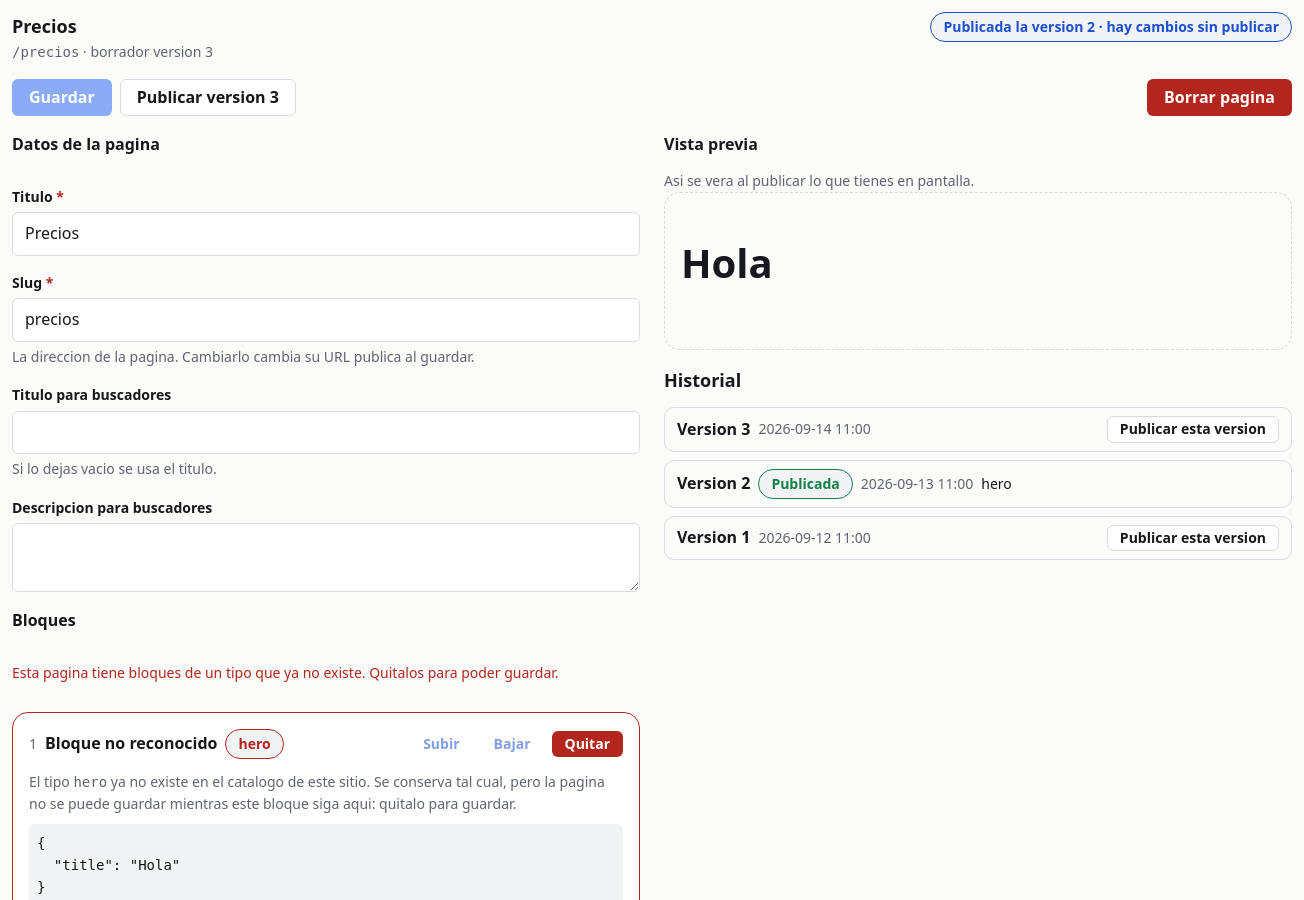
Test: EditorDePagina: guardar › un 409 con la version intacta es el slug de otra pagina, no un conflicto de version
Replace the text in the field labelled "Slug *" with "inicio": (326, 320) [12, 298, 640, 342]
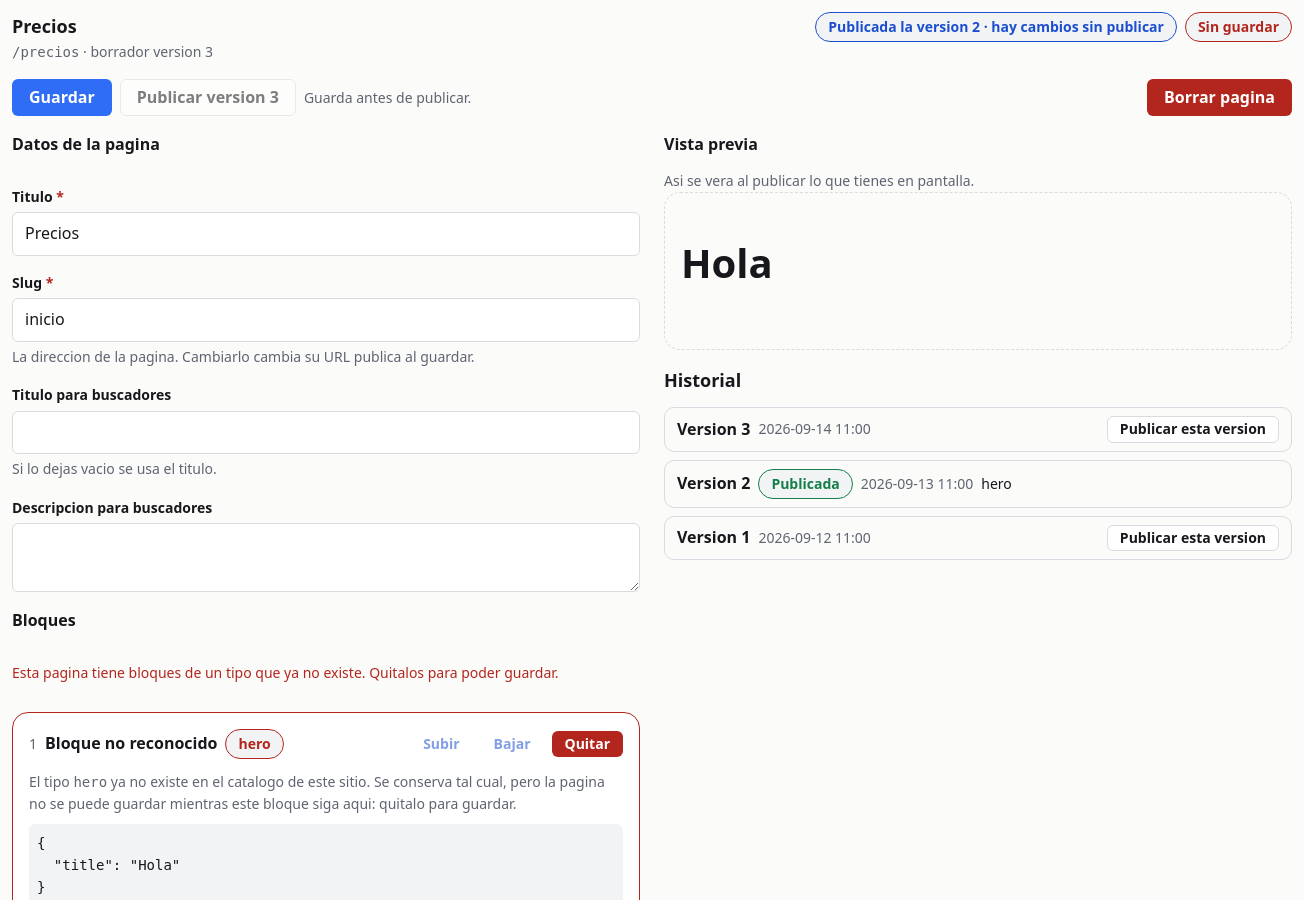
Click the button "Guardar": (62, 98) [12, 79, 112, 116]
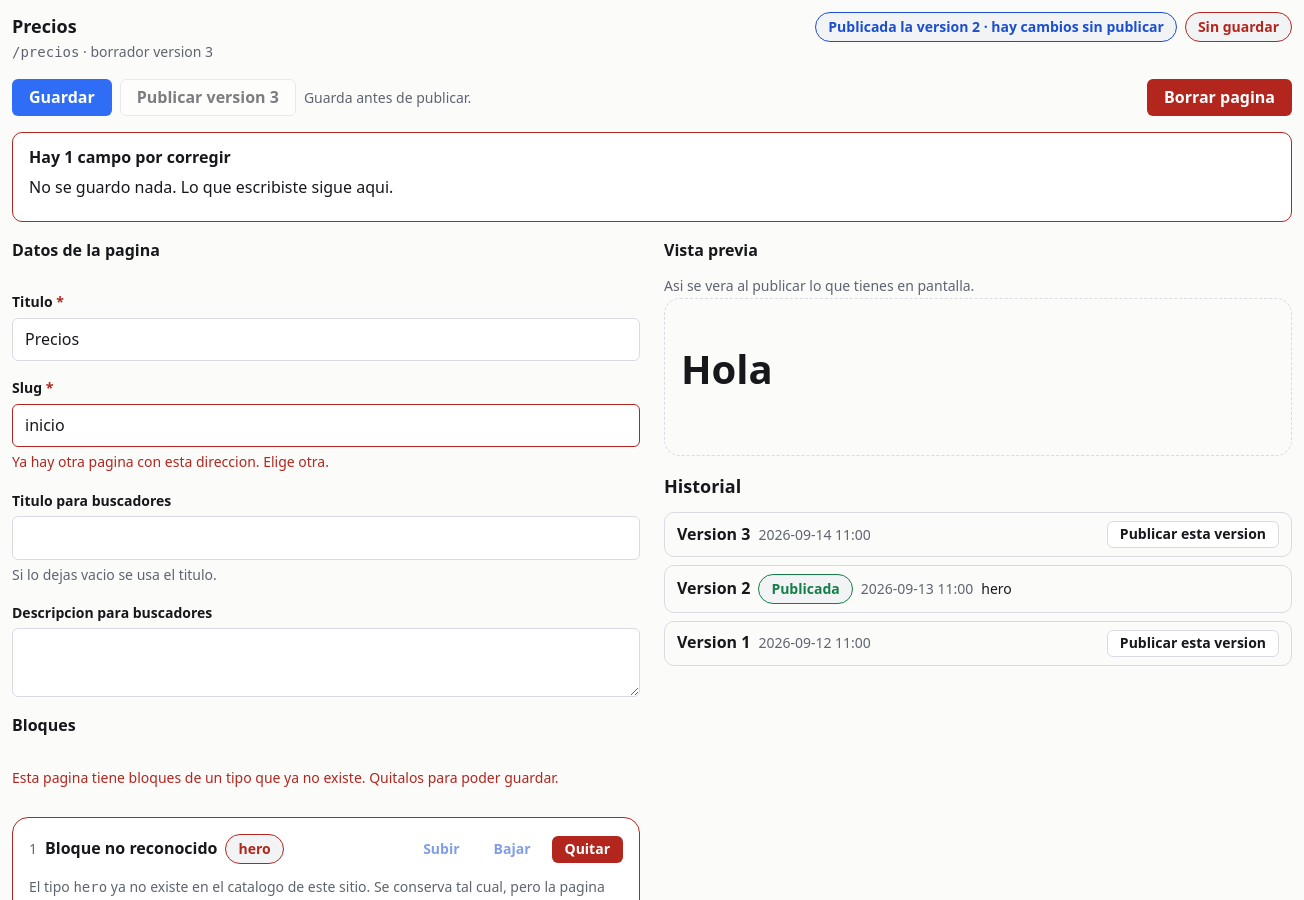
Expected: the text "Ya hay otra pagina con esta direccion" is shown, [12, 452, 329, 471]
